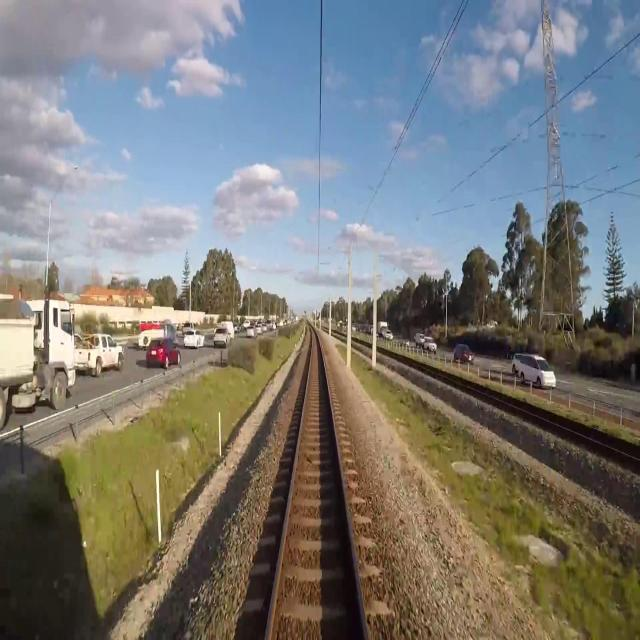rail-track: (270, 329, 363, 639), (567, 424, 640, 455)
